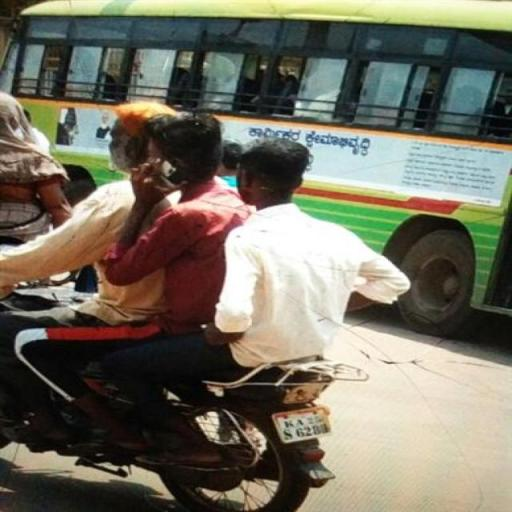tripple riding: (1, 95, 408, 361)
